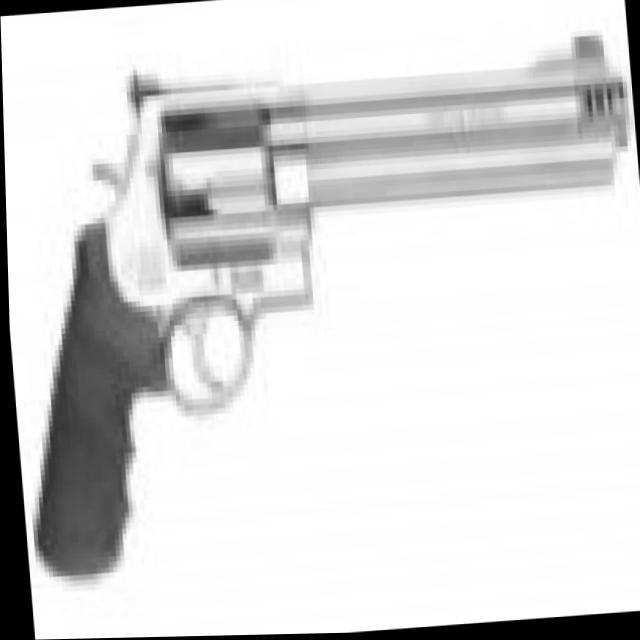weapon: (1, 25, 640, 578)
